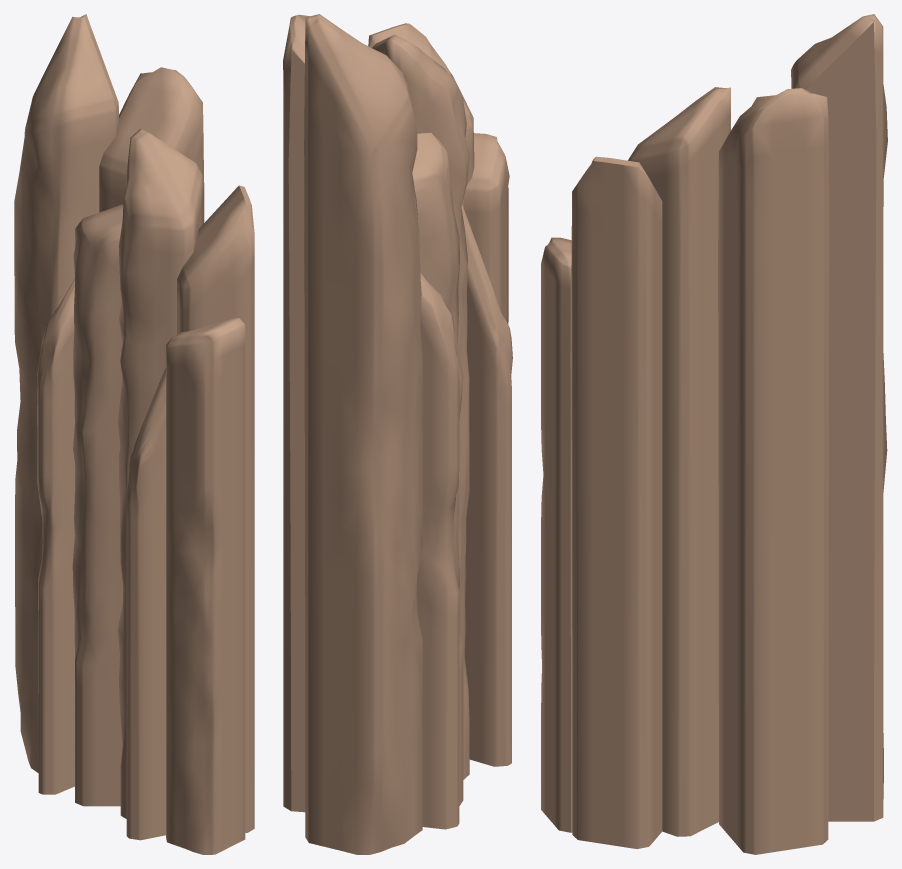
Rendered from SM_Crystalwall_001.FBX.
3 views of the same model, side by side, from view 1: azimuth 30°, elevation 25°; view 2: azimuth 150°, elevation 25°; view 3: azimuth 270°, elevation 25° (orthographic). The views are drawn at different scales.
Visible parts, largest first — view 1: SM_Crystalwall_001; view 2: SM_Crystalwall_001; view 3: SM_Crystalwall_001.
Boxes of the visible parts, x1,y1,x2,y2 form: SM_Crystalwall_001: (14, 14, 254, 854); SM_Crystalwall_001: (283, 14, 512, 854); SM_Crystalwall_001: (541, 14, 887, 854).
Size of the model in its own units: 851 by 3847 by 1509.
